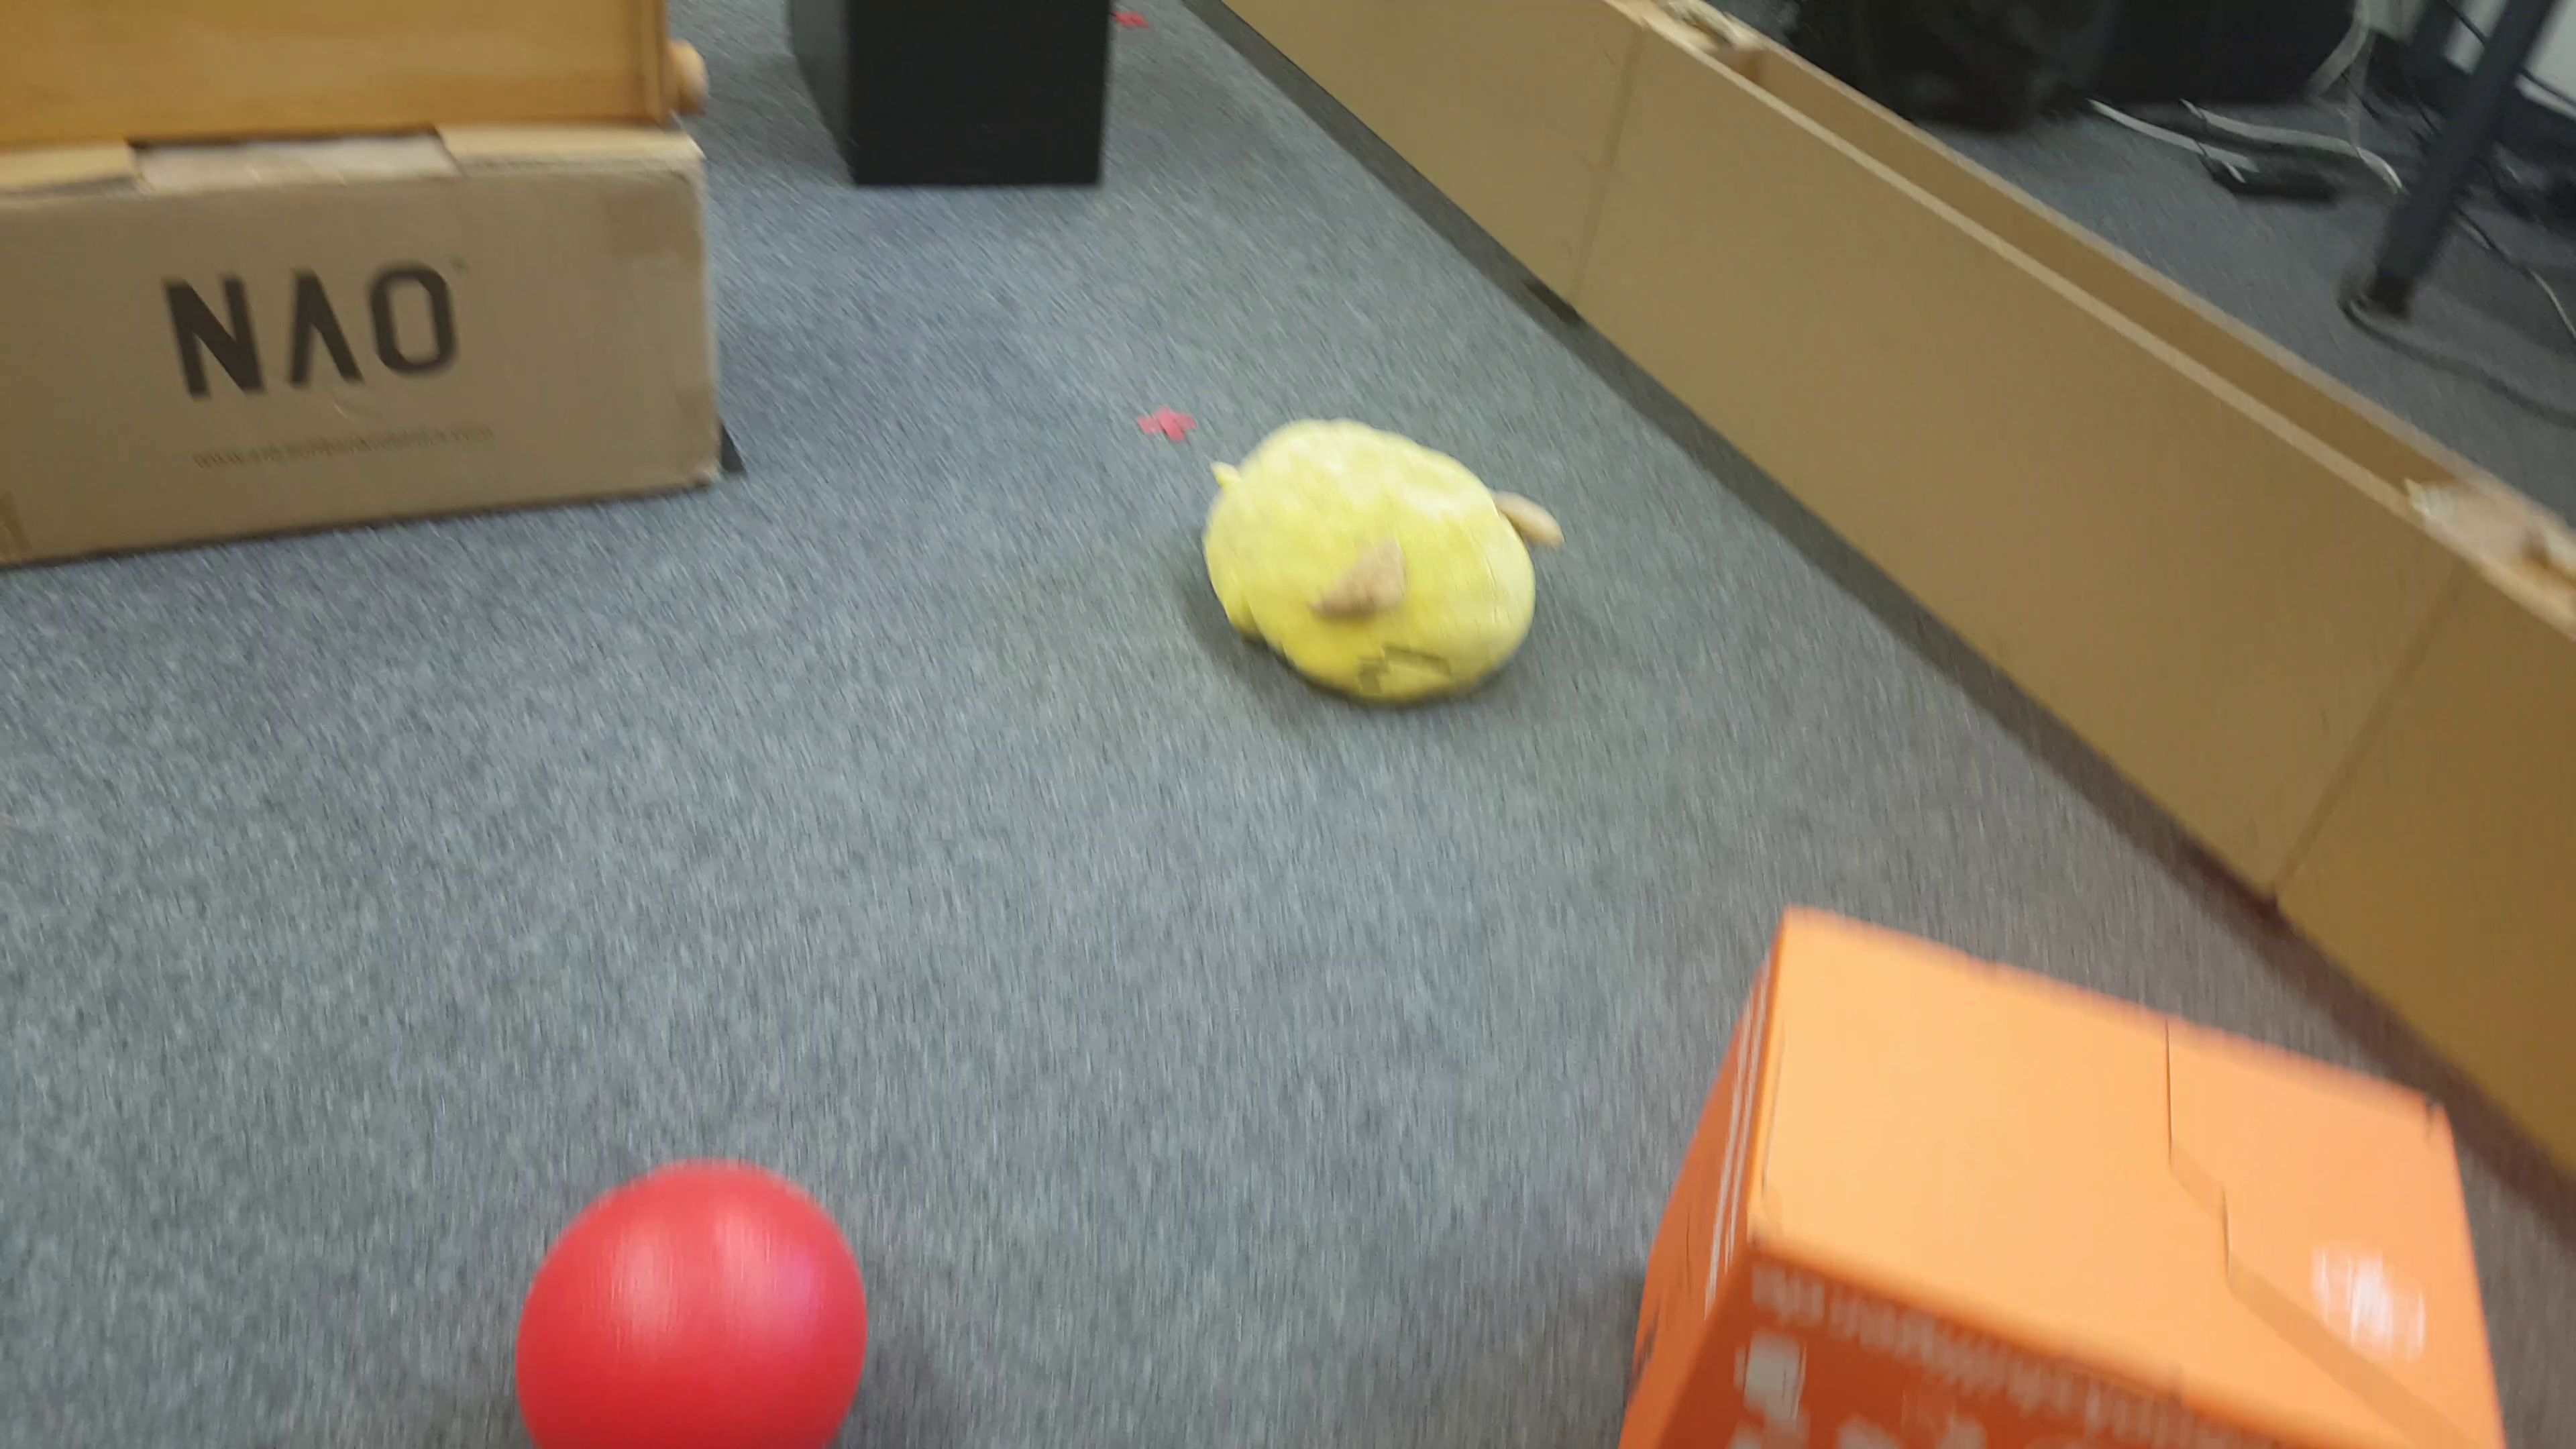grasp: (1194, 410, 1566, 720)
kick: (490, 1155, 879, 1445)
push: (1605, 904, 2500, 1449), (784, 2, 1113, 203)
